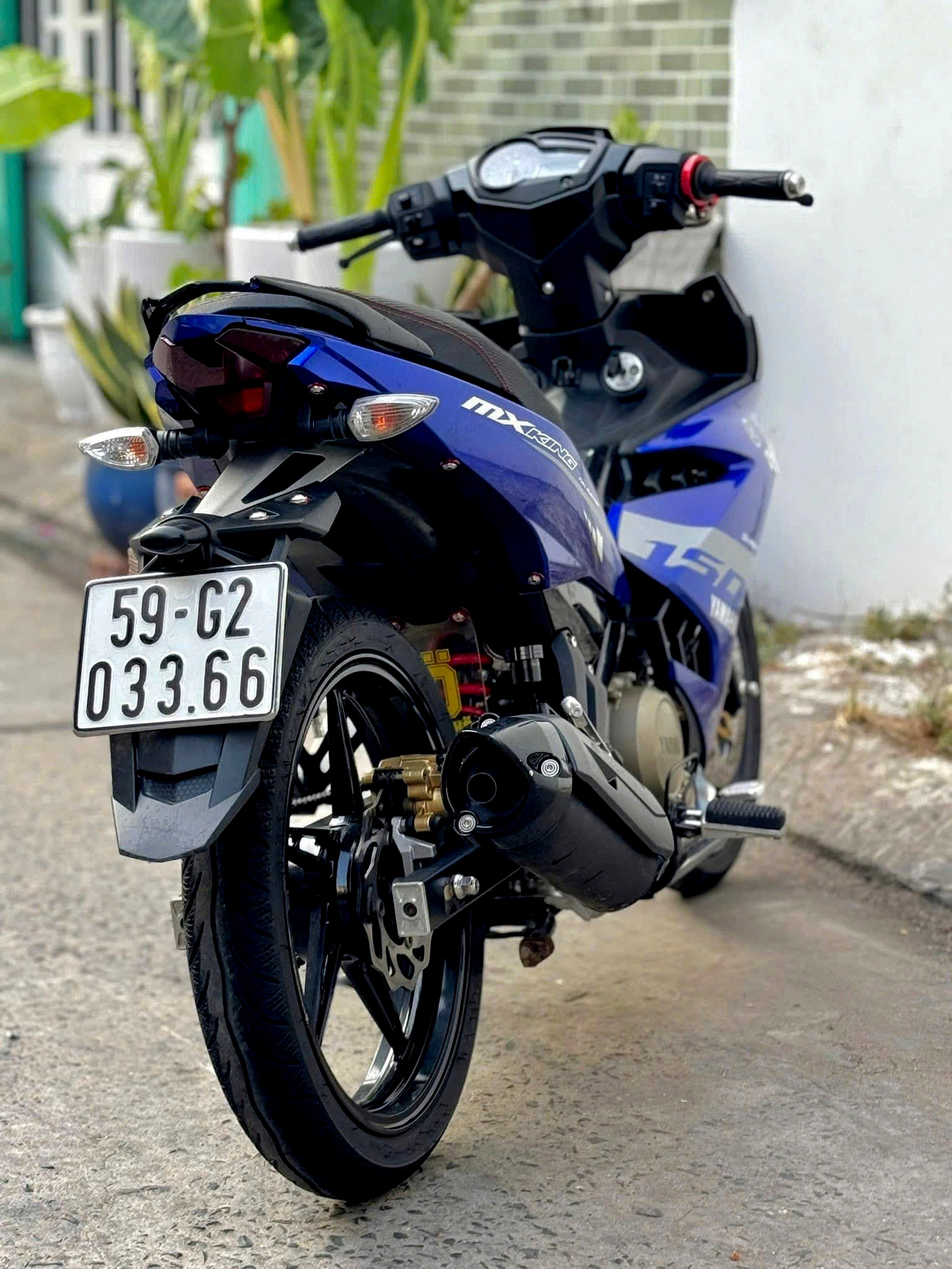Bien-so: (64, 553, 276, 732)
